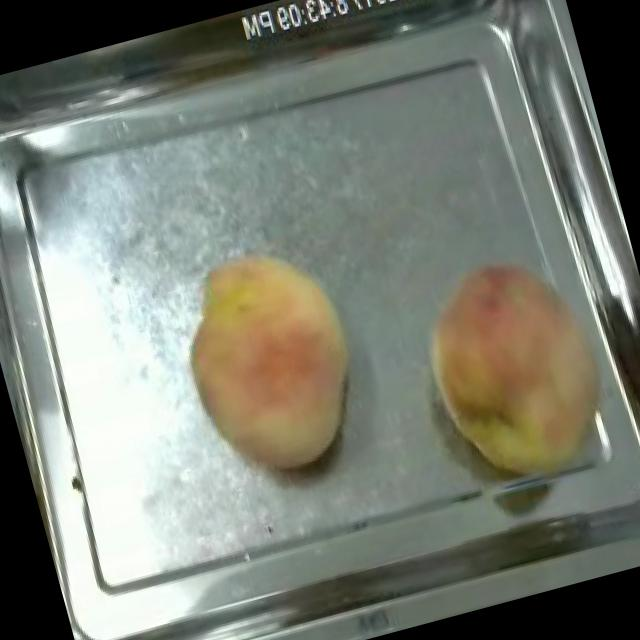Fruit: (398, 228, 640, 506), (157, 230, 388, 497)
